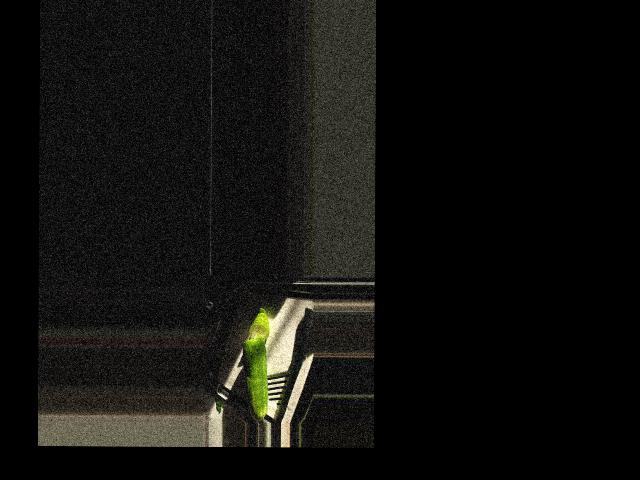cucumber: (242, 336, 268, 420)
